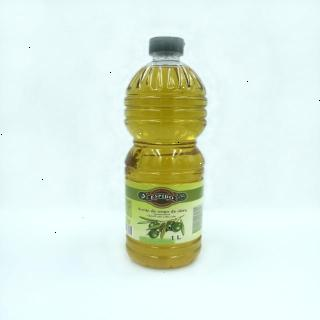Plastic-bottle: (120, 32, 213, 274)
